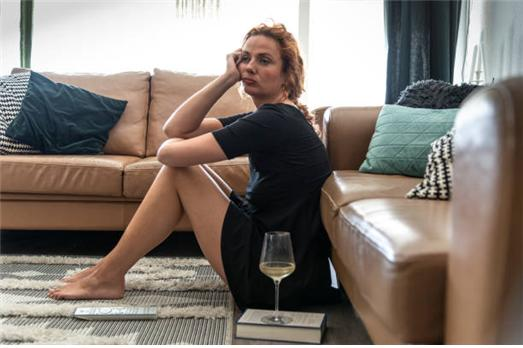alcohol: (259, 230, 296, 326)
